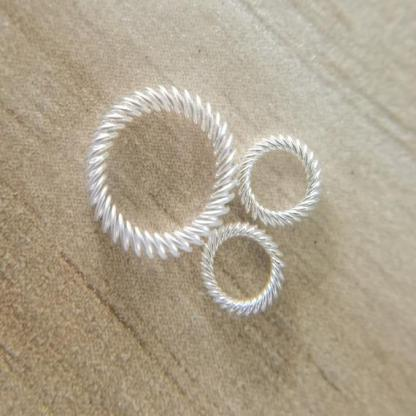FOD: (82, 83, 239, 263), (197, 220, 288, 318), (238, 131, 324, 228)
